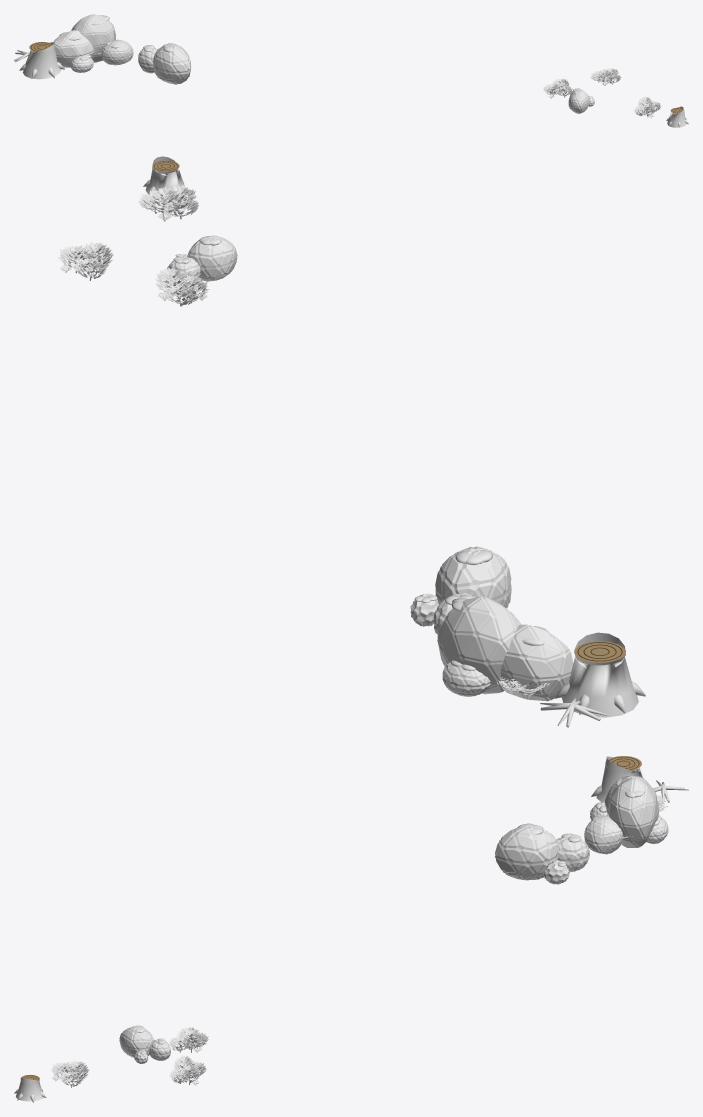
The model's file is SM_DF_Nature_1_1_Macro.fbx.
3 renders of one model, top to bottom at view 1: azimuth 30°, elevation 25°; view 2: azimuth 150°, elevation 25°; view 3: azimuth 270°, elevation 25°, orthographic. The views are drawn at different scales.
Visible parts, largest first — view 1: SM_DF_Nature_1_1_Macro; view 2: SM_DF_Nature_1_1_Macro; view 3: SM_DF_Nature_1_1_Macro.
Part boxes in pixels (x1,y1,x2,y2): SM_DF_Nature_1_1_Macro: (14, 14, 688, 127); SM_DF_Nature_1_1_Macro: (58, 156, 645, 727); SM_DF_Nature_1_1_Macro: (14, 756, 688, 1102).
Bounding box in the file's own units: 2635 × 2389 × 274.
